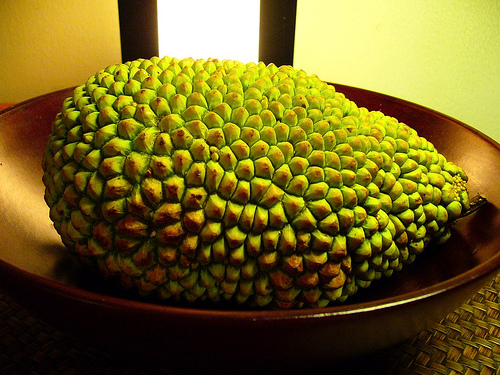jackfruit: (42, 56, 473, 312)
